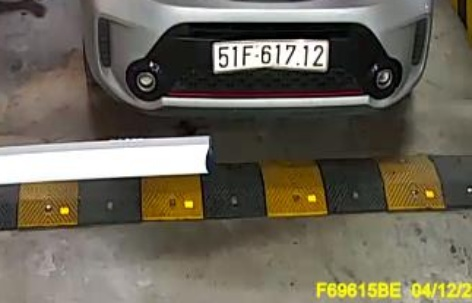plate: (202, 35, 337, 80)
